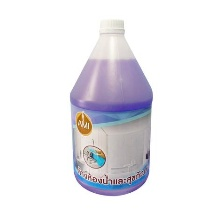cleaning_solution: (67, 16, 154, 199)
